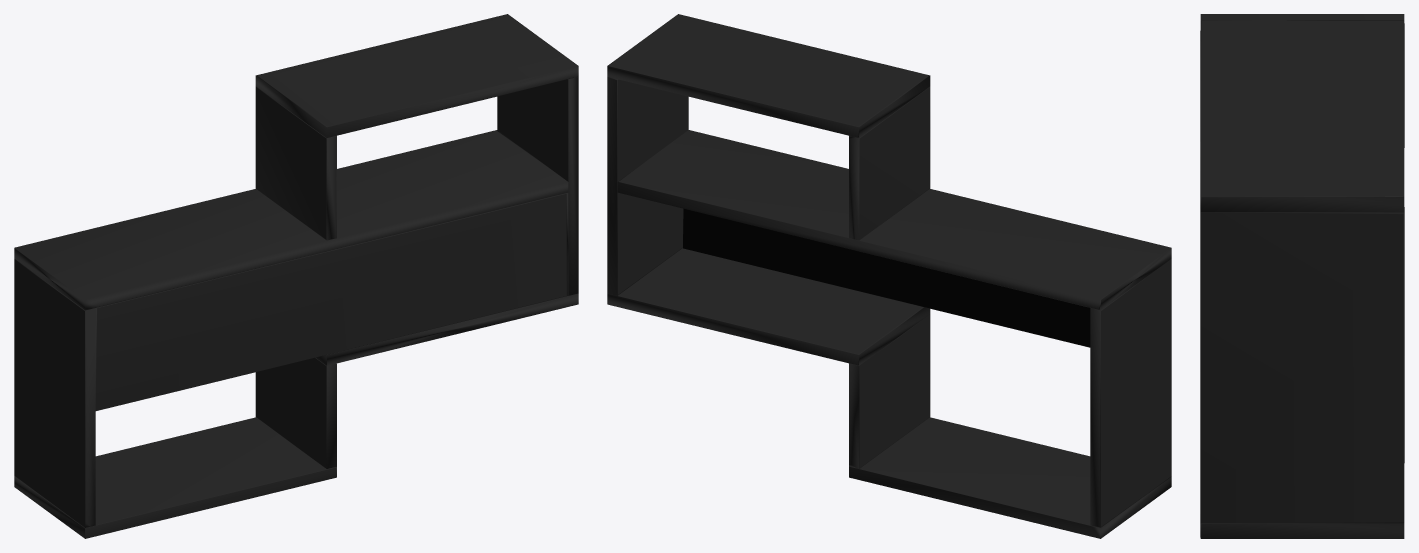
The model's file is 66ffce97-7f39-4d69-87b1-246daf93612a.glb.
The picture shows the model from 3 angles, left to right: view 1: azimuth 30°, elevation 25°; view 2: azimuth 150°, elevation 25°; view 3: azimuth 270°, elevation 25°; orthographic projection. The views are drawn at different scales.
Visible parts, largest first — view 1: ArtShelf.002; view 2: ArtShelf.002; view 3: ArtShelf.002.
Part boxes in pixels (box(x1,y1,x2,y2)): ArtShelf.002: box(14, 14, 578, 538); ArtShelf.002: box(607, 14, 1171, 538); ArtShelf.002: box(1200, 14, 1404, 538).
Size of what is drawn, in the model's own units: 1.82 by 1.24 by 0.4536.
2 materials, 2 textured.
